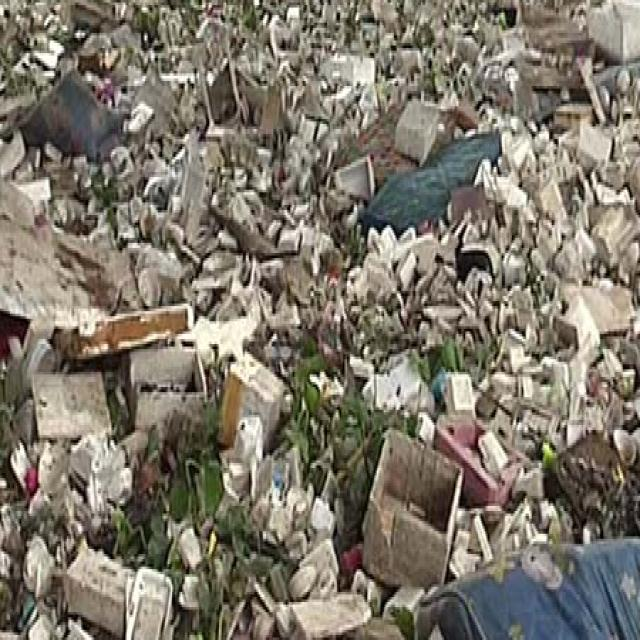-: (0, 0, 640, 496), (73, 0, 610, 43)
